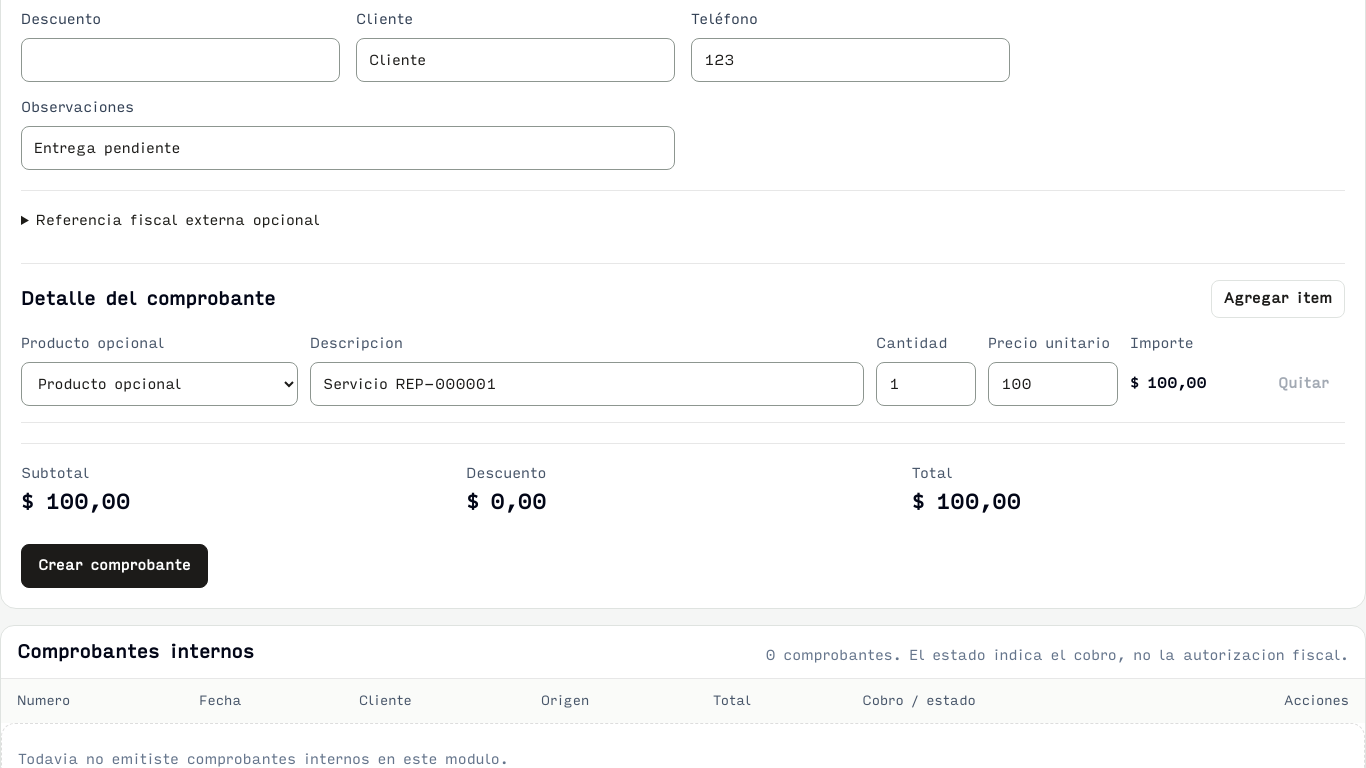
Test: primary REP billing form › previews fractional totals and discount limits using exact per-line rounding
The width and height of the screenshot is (1366, 768).
(page scrolled)
Replace the text in the number field named "Cantidad del ítem 1" with "0.5". click: (926, 384)
box: [876,362,976,406]
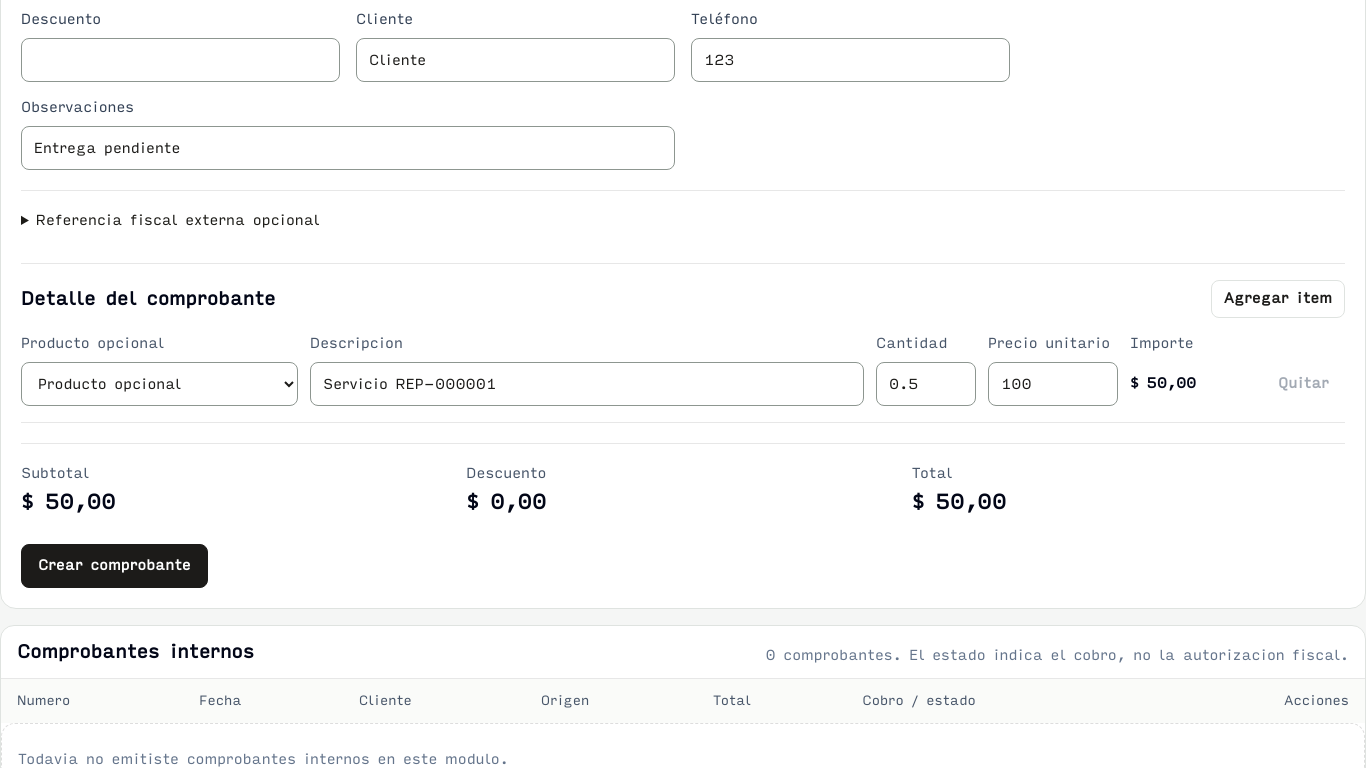
Replace the text in the field named "Precio unitario del ítem 1" with "20.15". click: (1053, 384)
box: [988,362,1118,406]
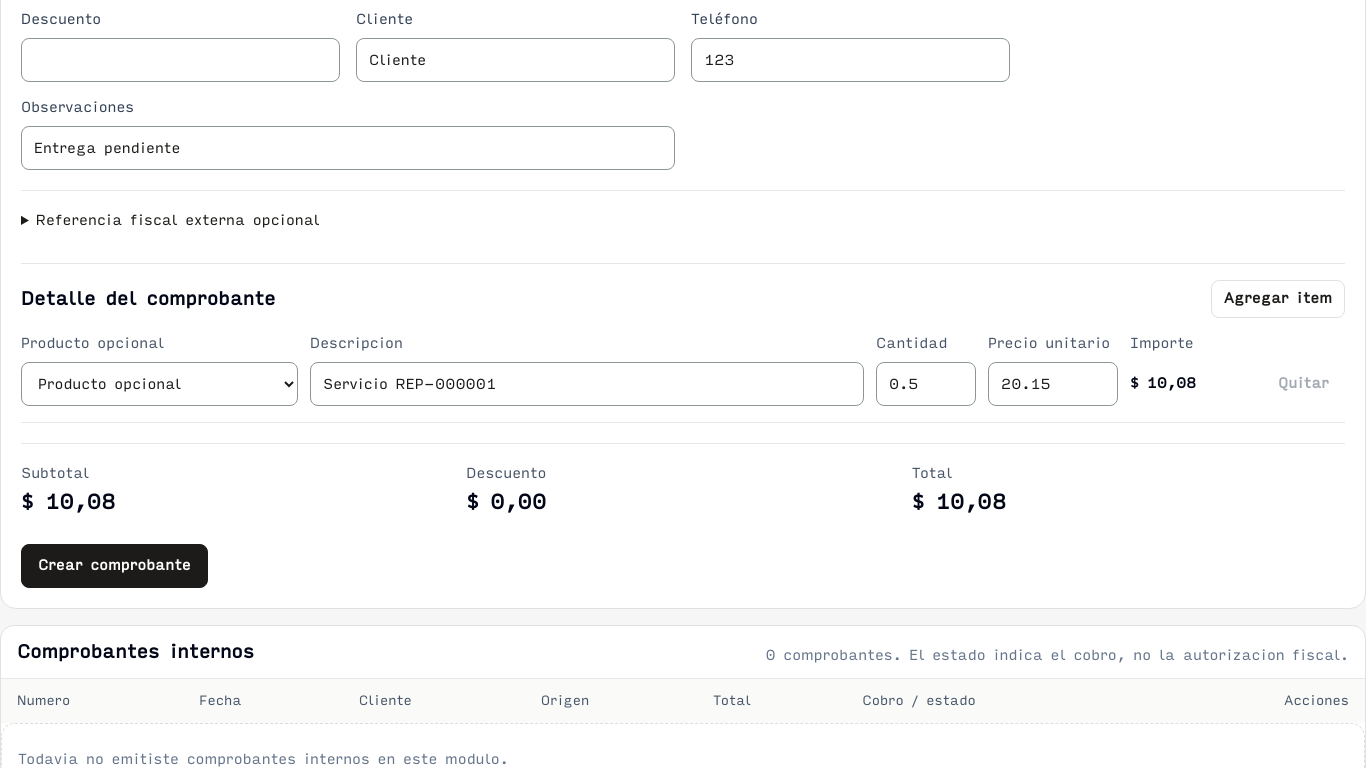
Type "10.08" into the field labelled "Descuento". click: (180, 60)
box: [21,38,340,82]
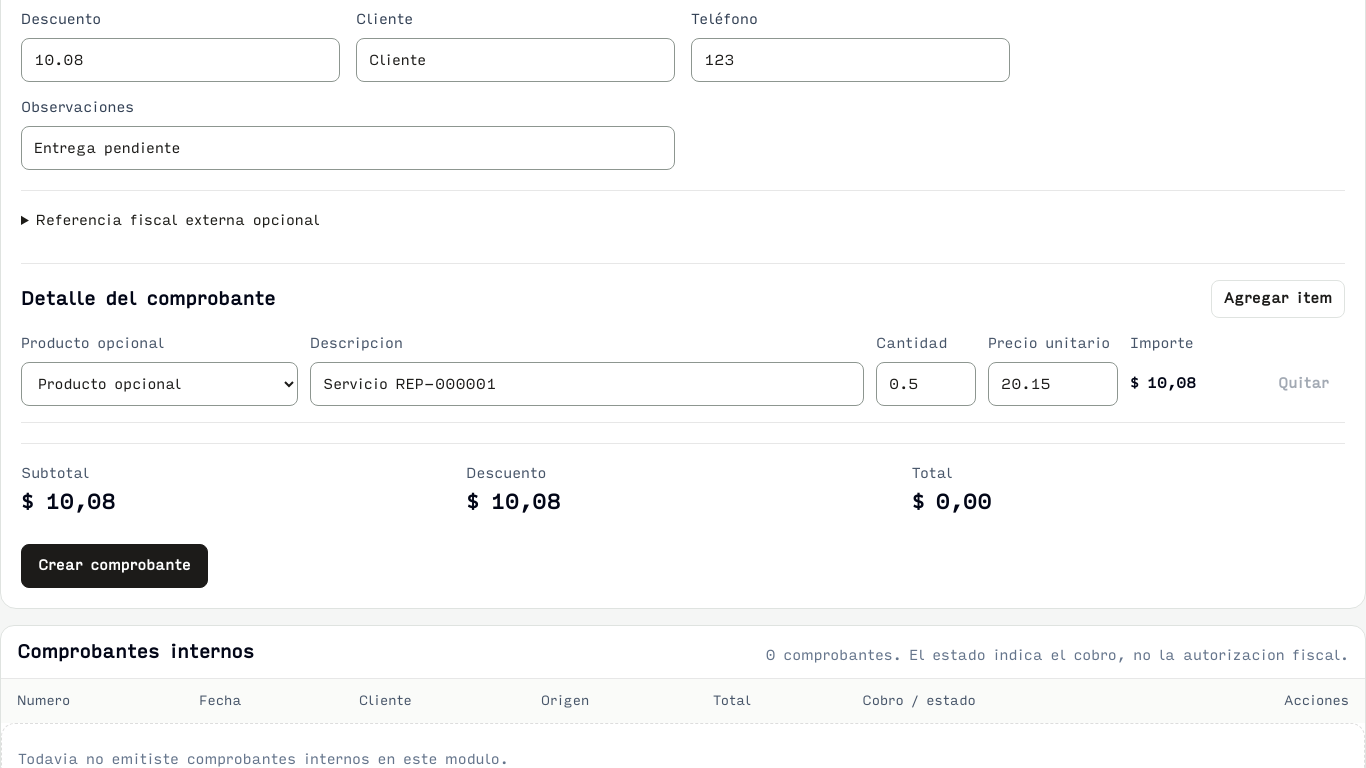
Expected: the button "Crear comprobante" is enabled, [21,544,208,588]
Replace the text in the field labelled "Descuento" with "10.09". click: (180, 60)
box: [21,38,340,82]
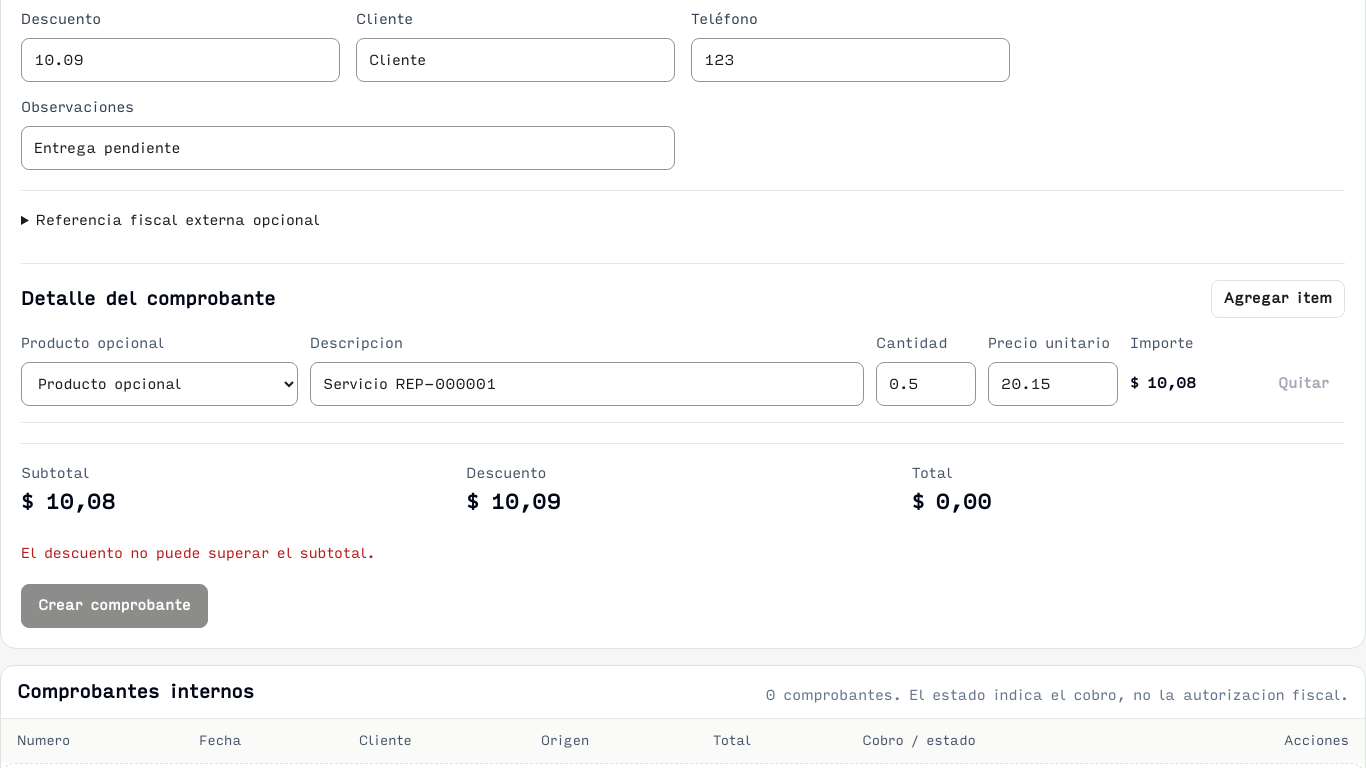
Now the message shows "descuento", box [21,545,376,562]
Now the button "Crear comprobante" is disabled, box [21,584,208,628]
